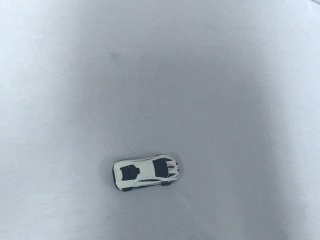toy_car: (112, 155, 179, 191)
